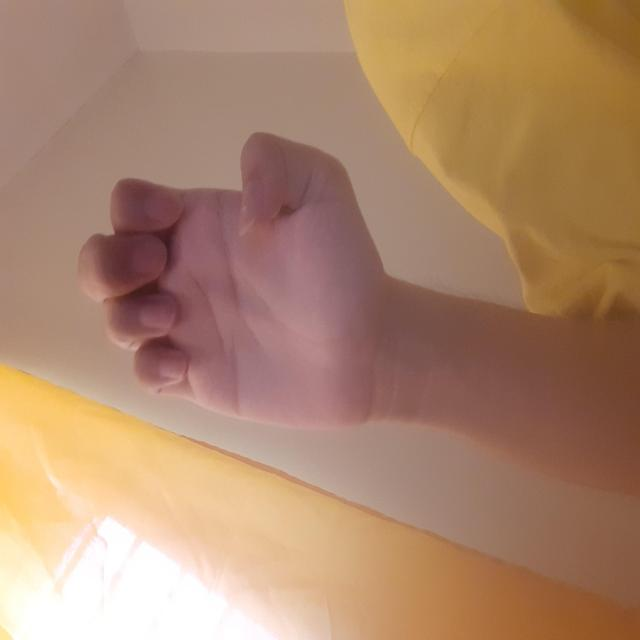E: (208, 77, 512, 382)
